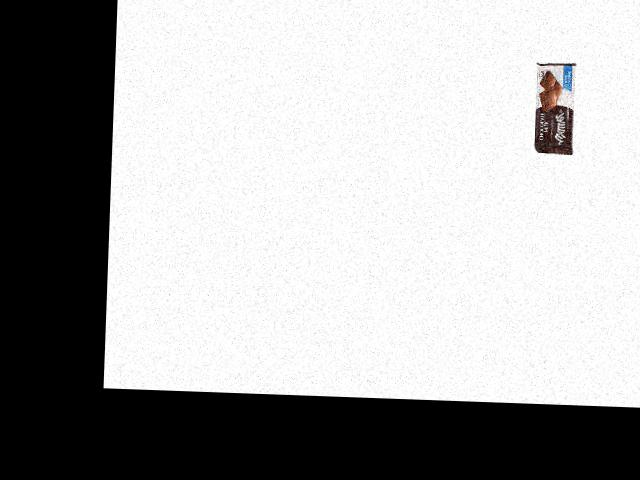chocolate: (531, 61, 577, 153)
